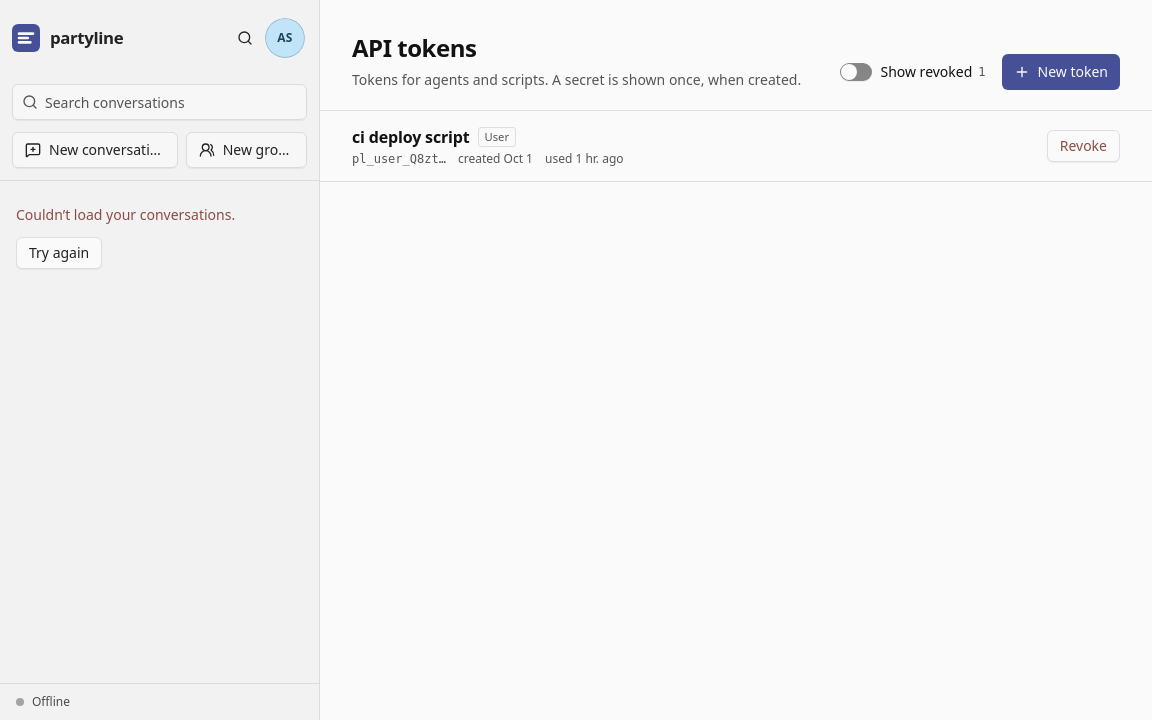
Test: tokens page (UI-19) › lists tokens by prefix with kind and state, revoked ones without a revoke button
Check: the list item "ci deploy script" is shown, box [352,126,1120,167]
Note: Revoked tokens are hidden by default (TOKH-04).
Click the switch named "Show revoked" at point(856, 72), box [840,63,872,81]
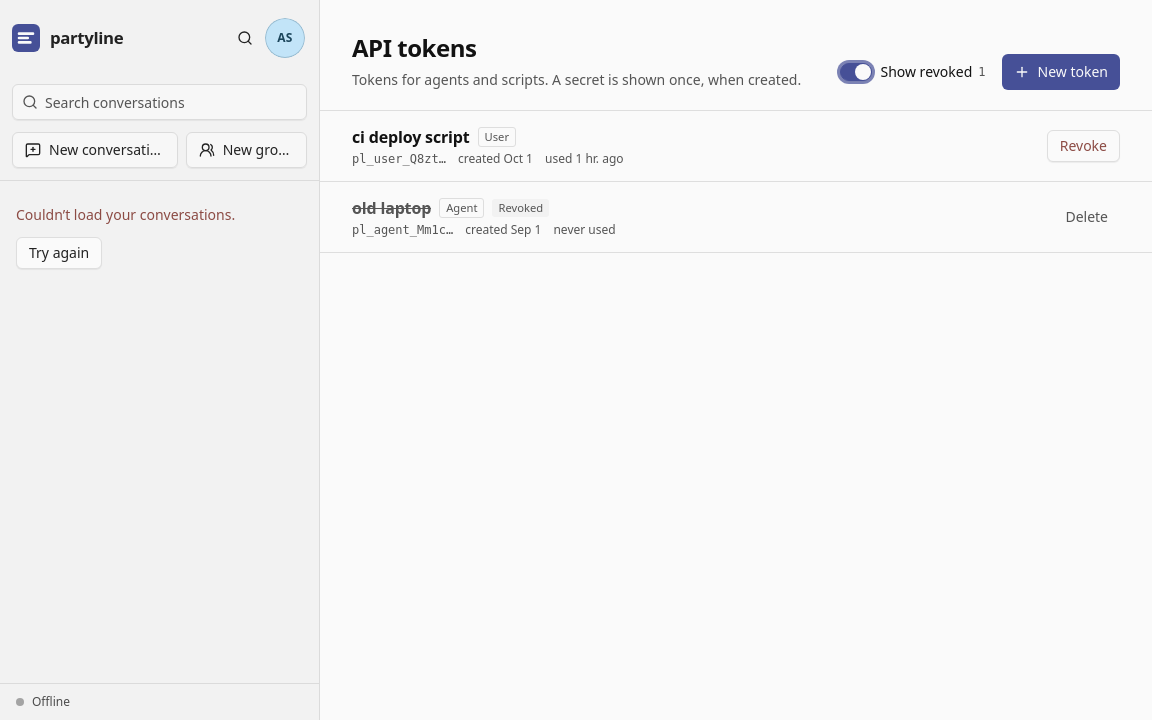
Check: the text "pl_user_Q8zt…" is shown, box [352,151,446,167]
Check: the text "Agent" is shown, box [439,198,484,218]
Check: the text "Revoked" is shown, box [492,199,549,217]
